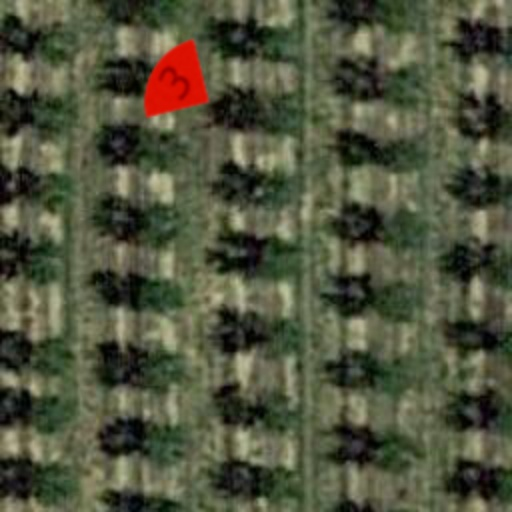quarter_circle: (116, 22, 236, 142)
